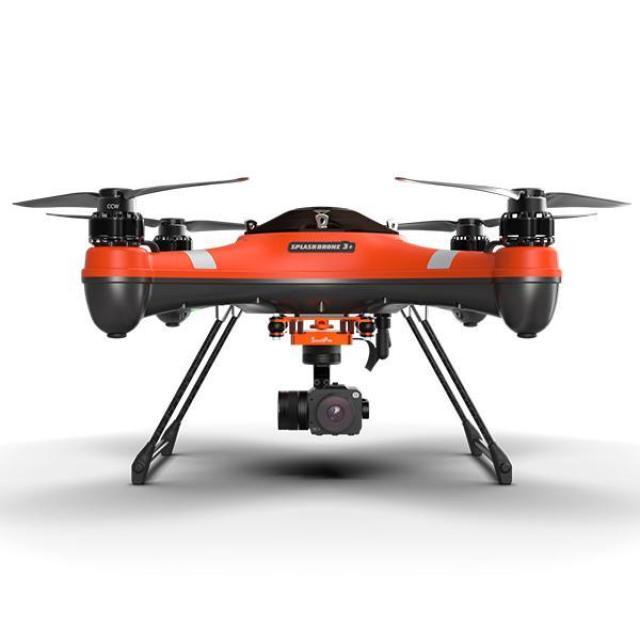drone: (13, 169, 631, 371)
